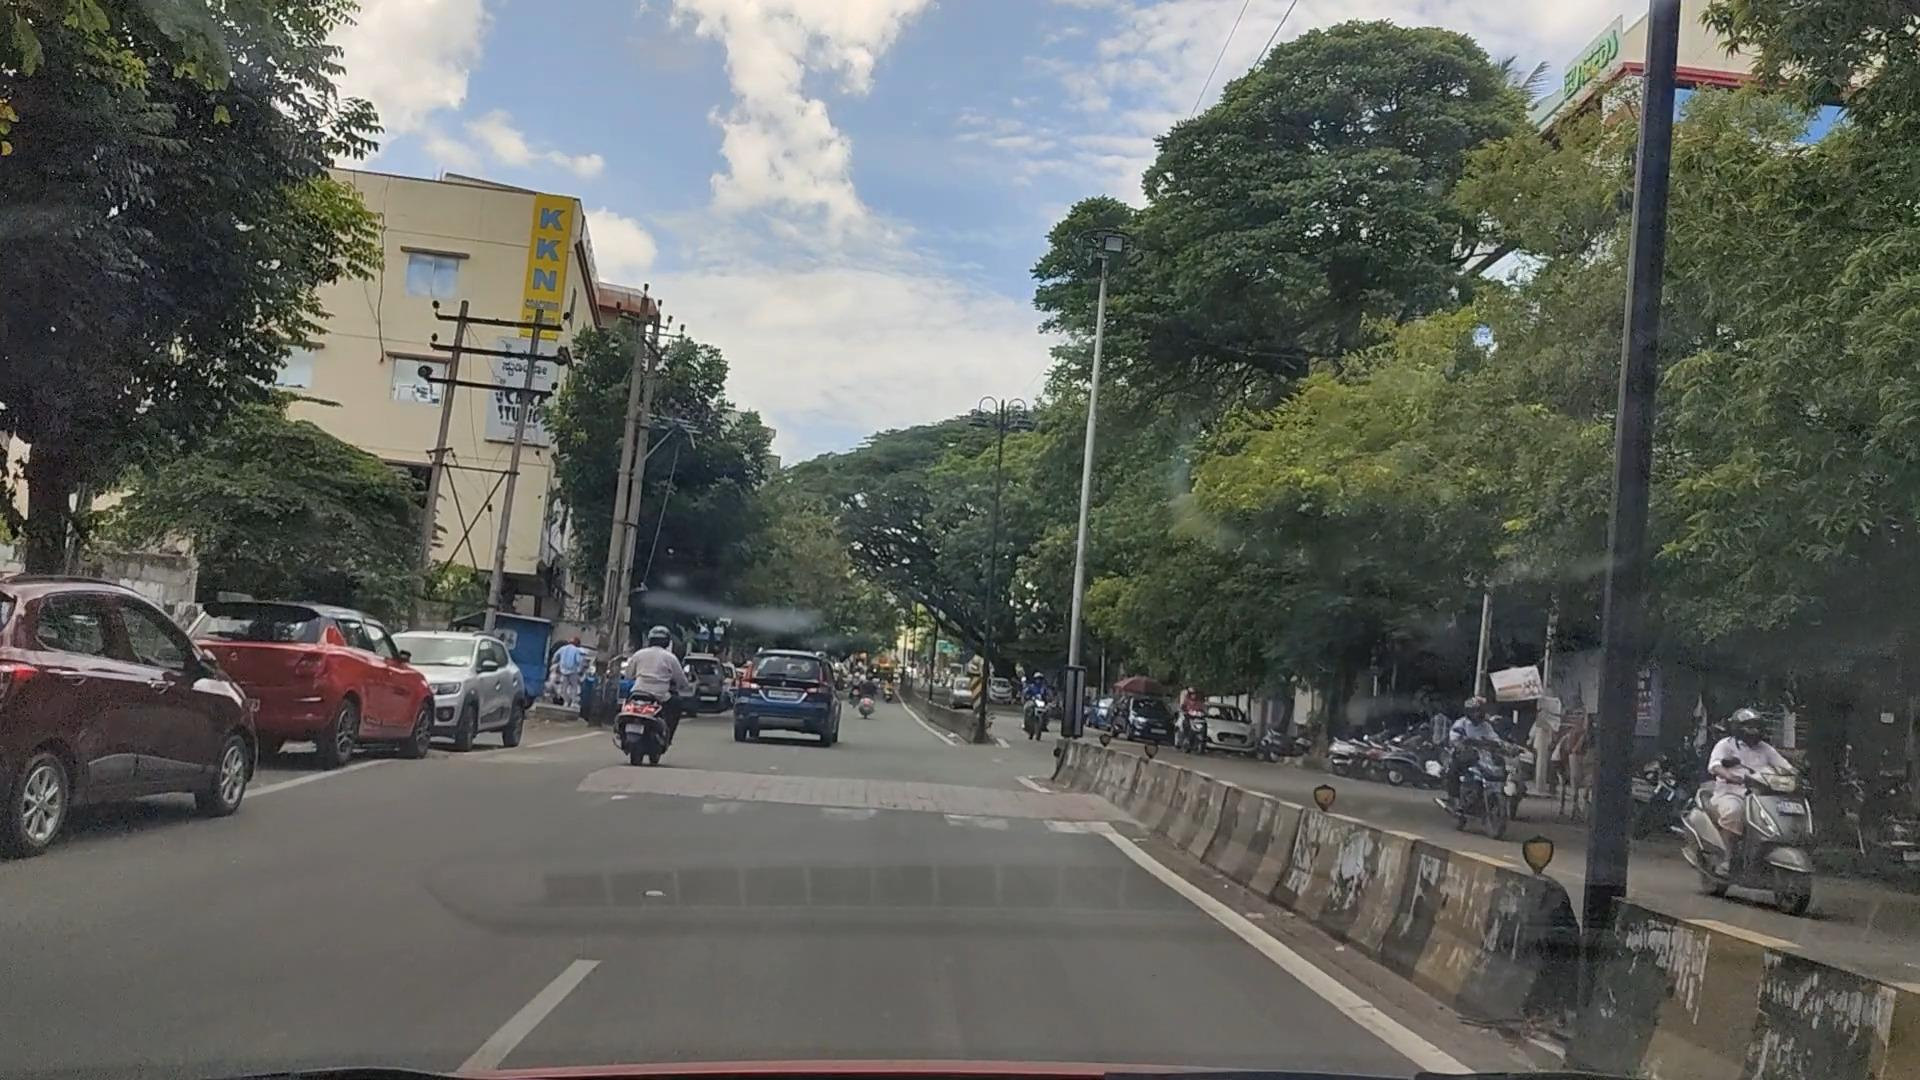LMV: (206, 603, 439, 754)
SpeedBump: (425, 748, 1125, 852)
